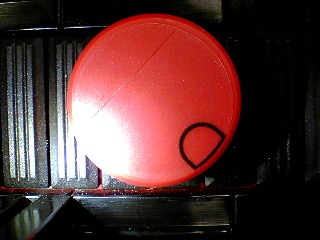MIPO1: (66, 13, 241, 188)
